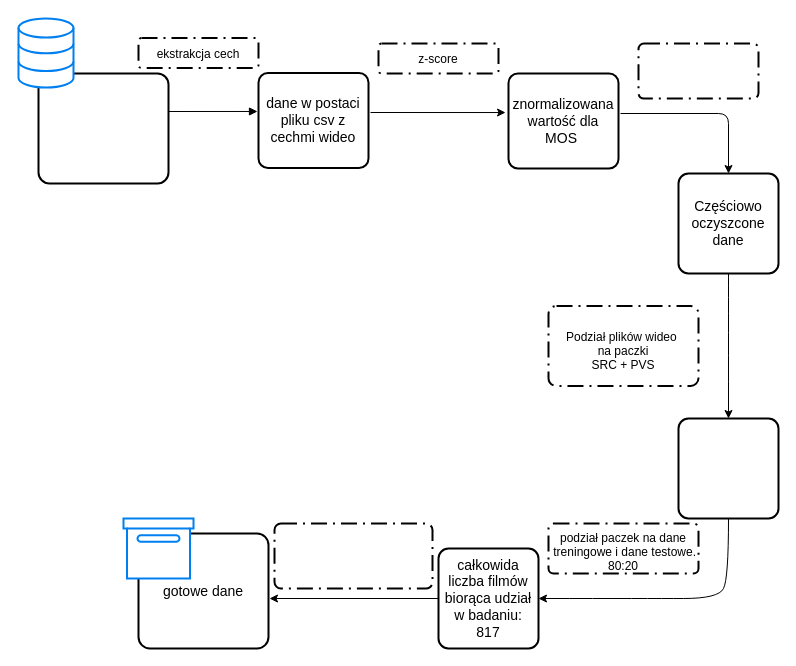
The diagram is 796 pixels wide and 666 high, and some of its shapes have lost their labels. The shapes that lost their labels are listed below. From the top down, each one's centre as x and y in pixels, then its label:
At point 698,70: "Usunięcie niepełnych wierszy".
At point 103,128: "5 Baz Danych".
At point 728,468: "111 paczek wideo".
At point 353,555: "rozłożenie paczek na pojedyncze dane dotyczące pojedynczych plików wideo".
